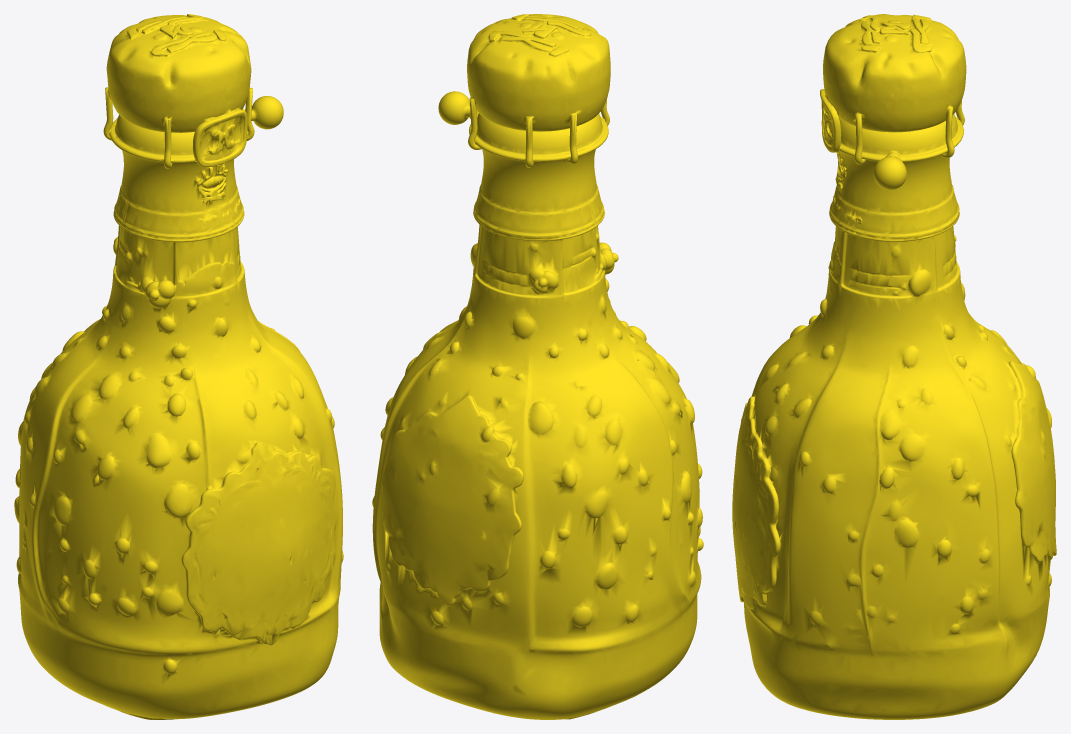
Rendered from Champagne.glb.
3 views of the same model, side by side, from view 1: azimuth 30°, elevation 25°; view 2: azimuth 150°, elevation 25°; view 3: azimuth 270°, elevation 25° (orthographic).
Visible parts, largest first — view 1: 香檳; view 2: 香檳; view 3: 香檳.
Boxes of the visible parts, x1=… form: 香檳: x1=14, y1=14, x2=343, y2=719; 香檳: x1=372, y1=14, x2=703, y2=719; 香檳: x1=732, y1=14, x2=1056, y2=719.
Size of the model in its own units: 0.0224 by 0.049 by 0.0225.
